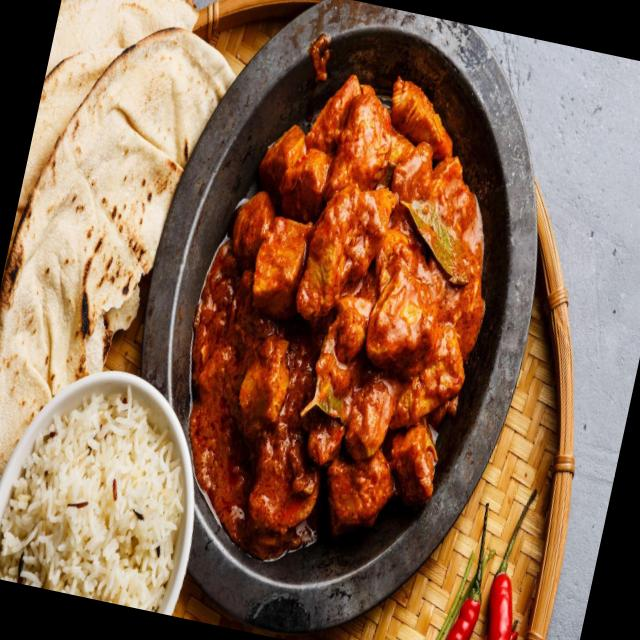chicken: (150, 59, 537, 568)
rice: (0, 389, 187, 610)
roti: (0, 0, 225, 453)
